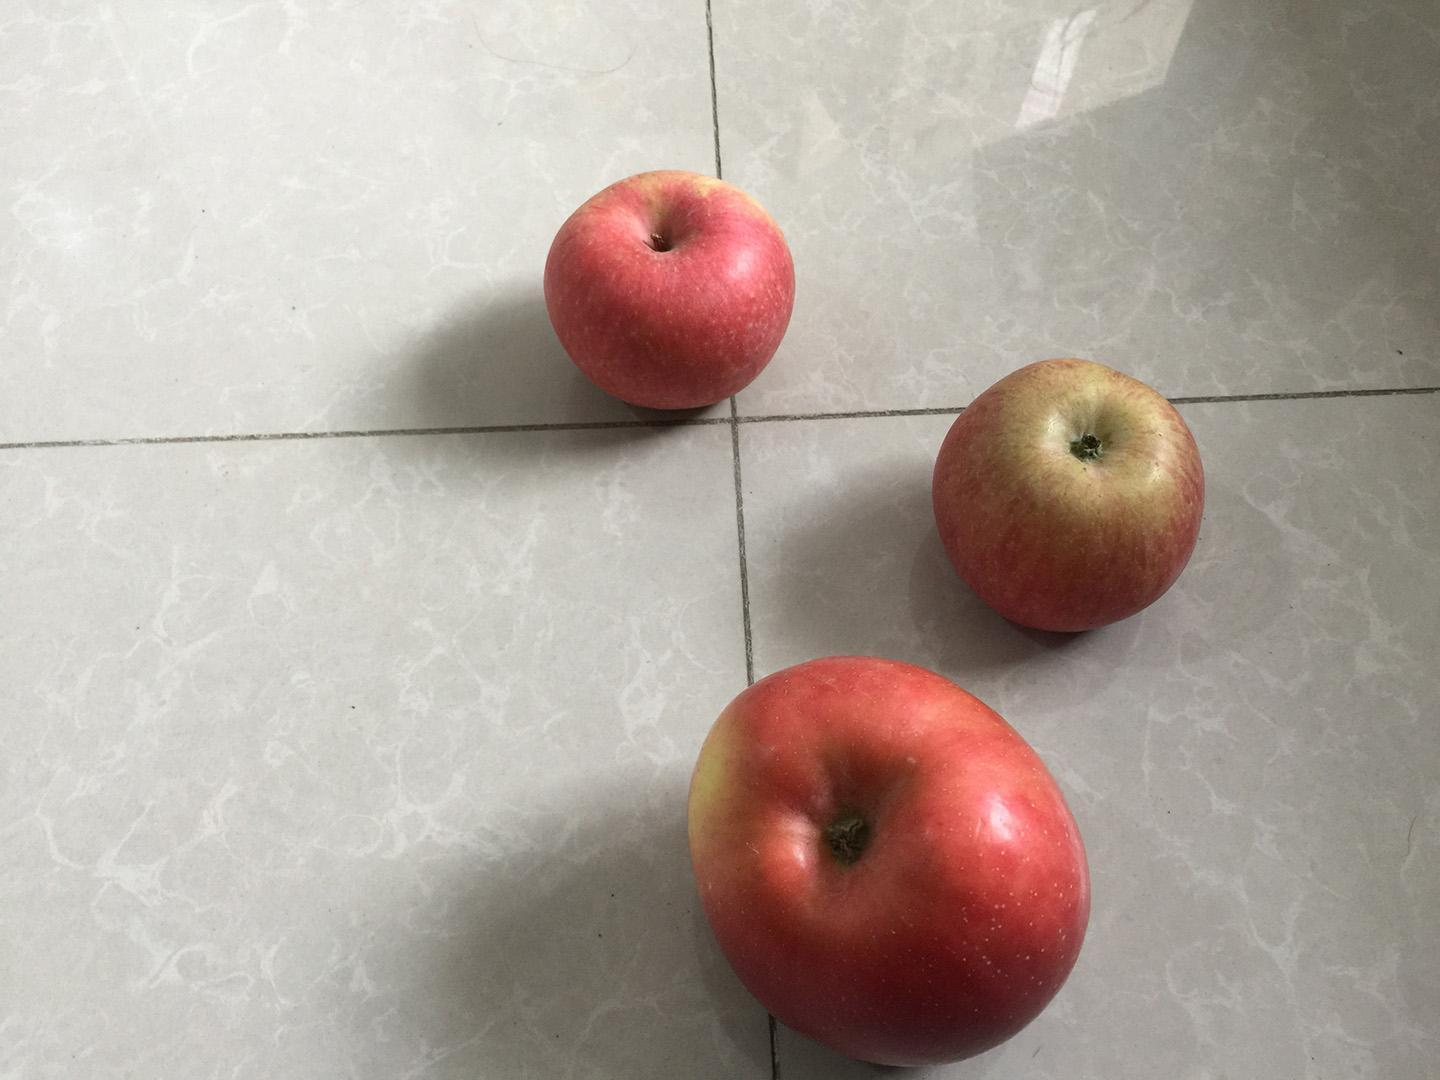apple: (668, 642, 1106, 1078), (920, 349, 1218, 646), (531, 164, 802, 416)
